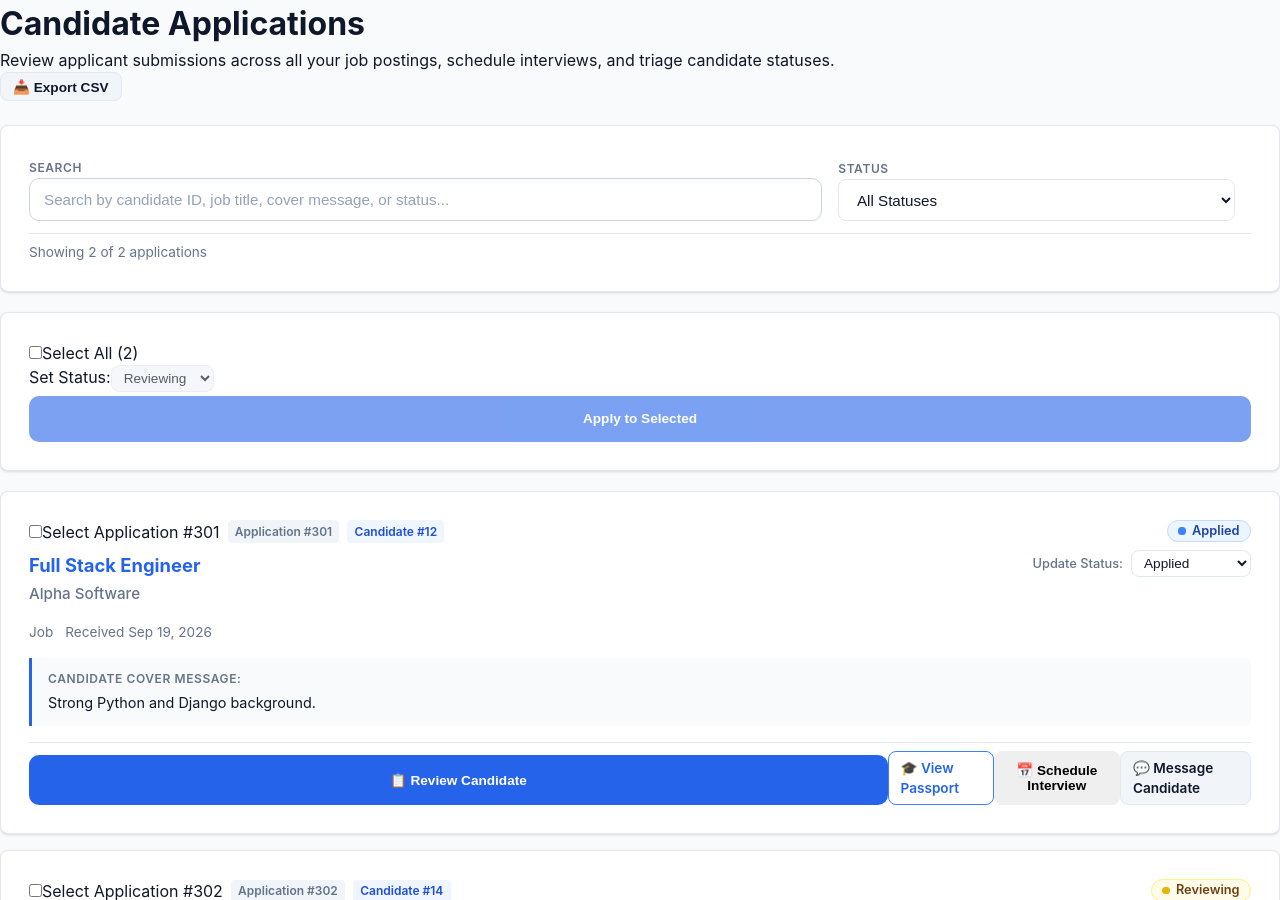
Test: RecruiterApplicationsPage › performs atomic bulk status update for selected applications
Expected: the text "Application #301" is shown, left=228, top=520, right=339, bottom=543
Select All
Click the checkbox with test id "select-all-checkbox" at (36, 352), box left=29, top=346, right=42, bottom=359
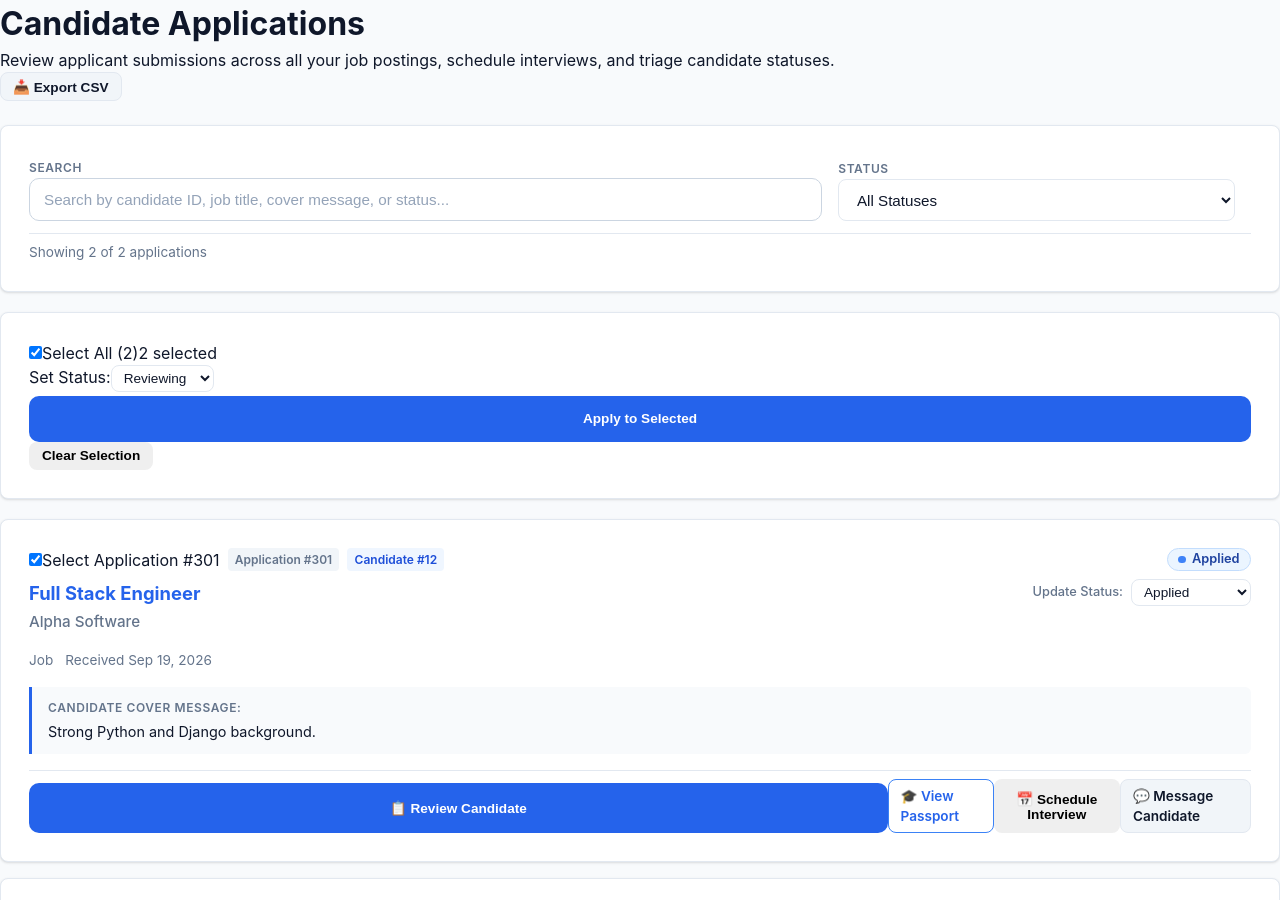
Choose shortlisted and apply
Select "Shortlisted" in the dropdown with test id "bulk-status-select" at (162, 378), box left=111, top=365, right=214, bottom=392
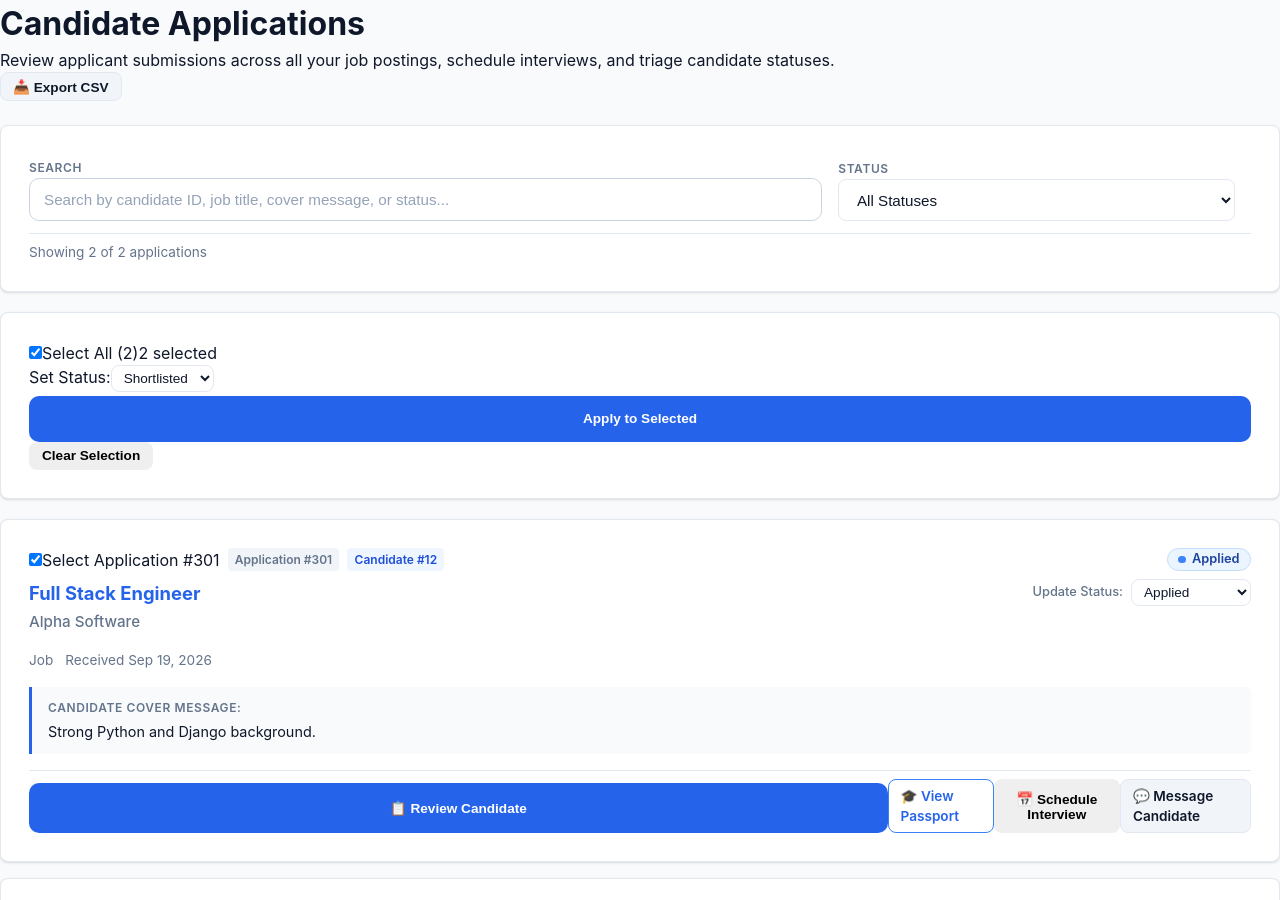
Click the button with test id "apply-bulk-status-btn" at (640, 419), box left=29, top=396, right=1251, bottom=442
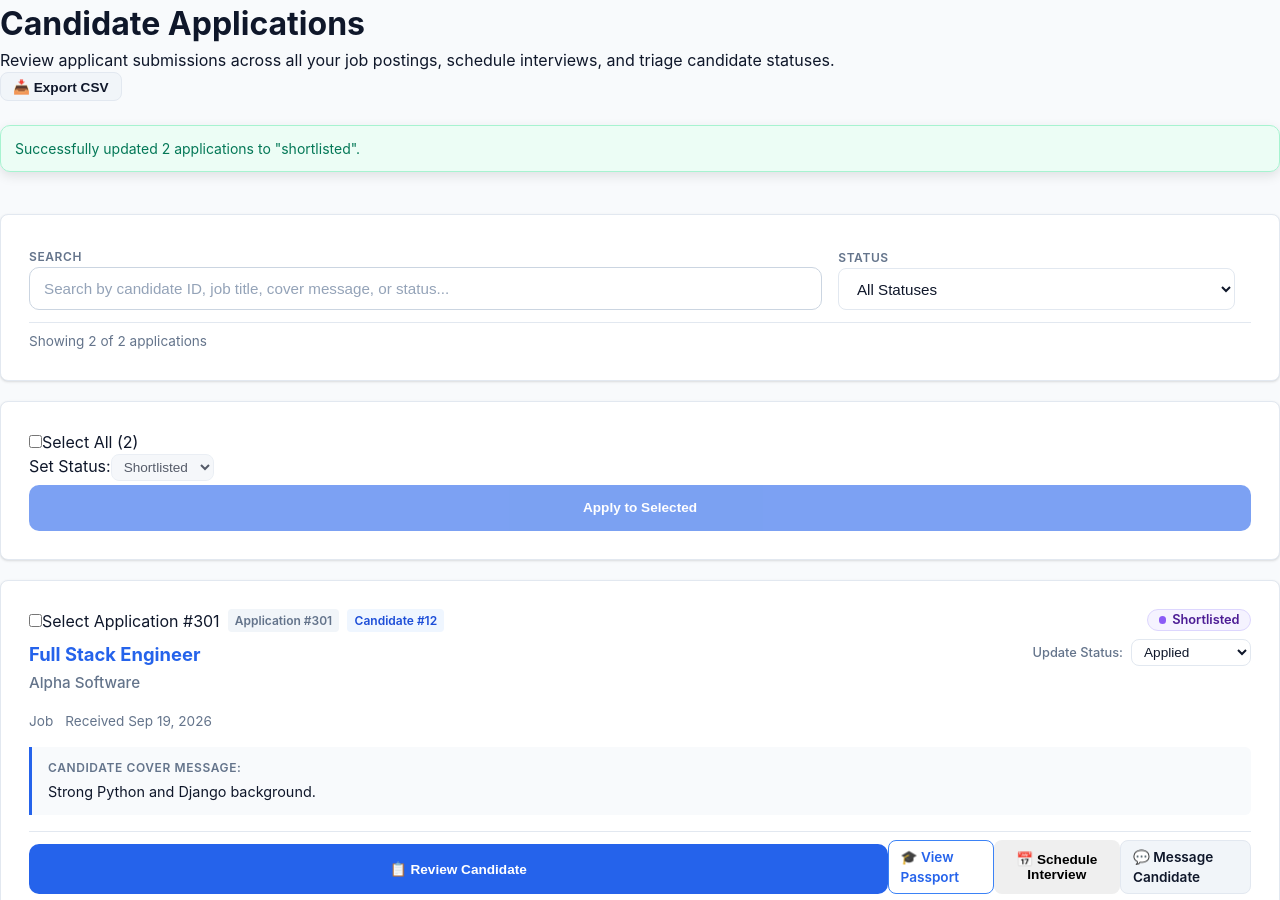
Result: the text "Successfully updated 2 applications to \"shortlisted\"." is shown at left=0, top=125, right=1279, bottom=172
